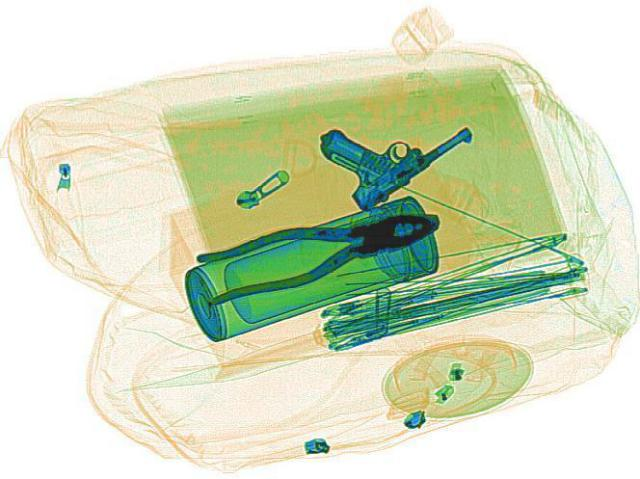Gun: (284, 79, 480, 211)
Pliers: (181, 191, 453, 306)
